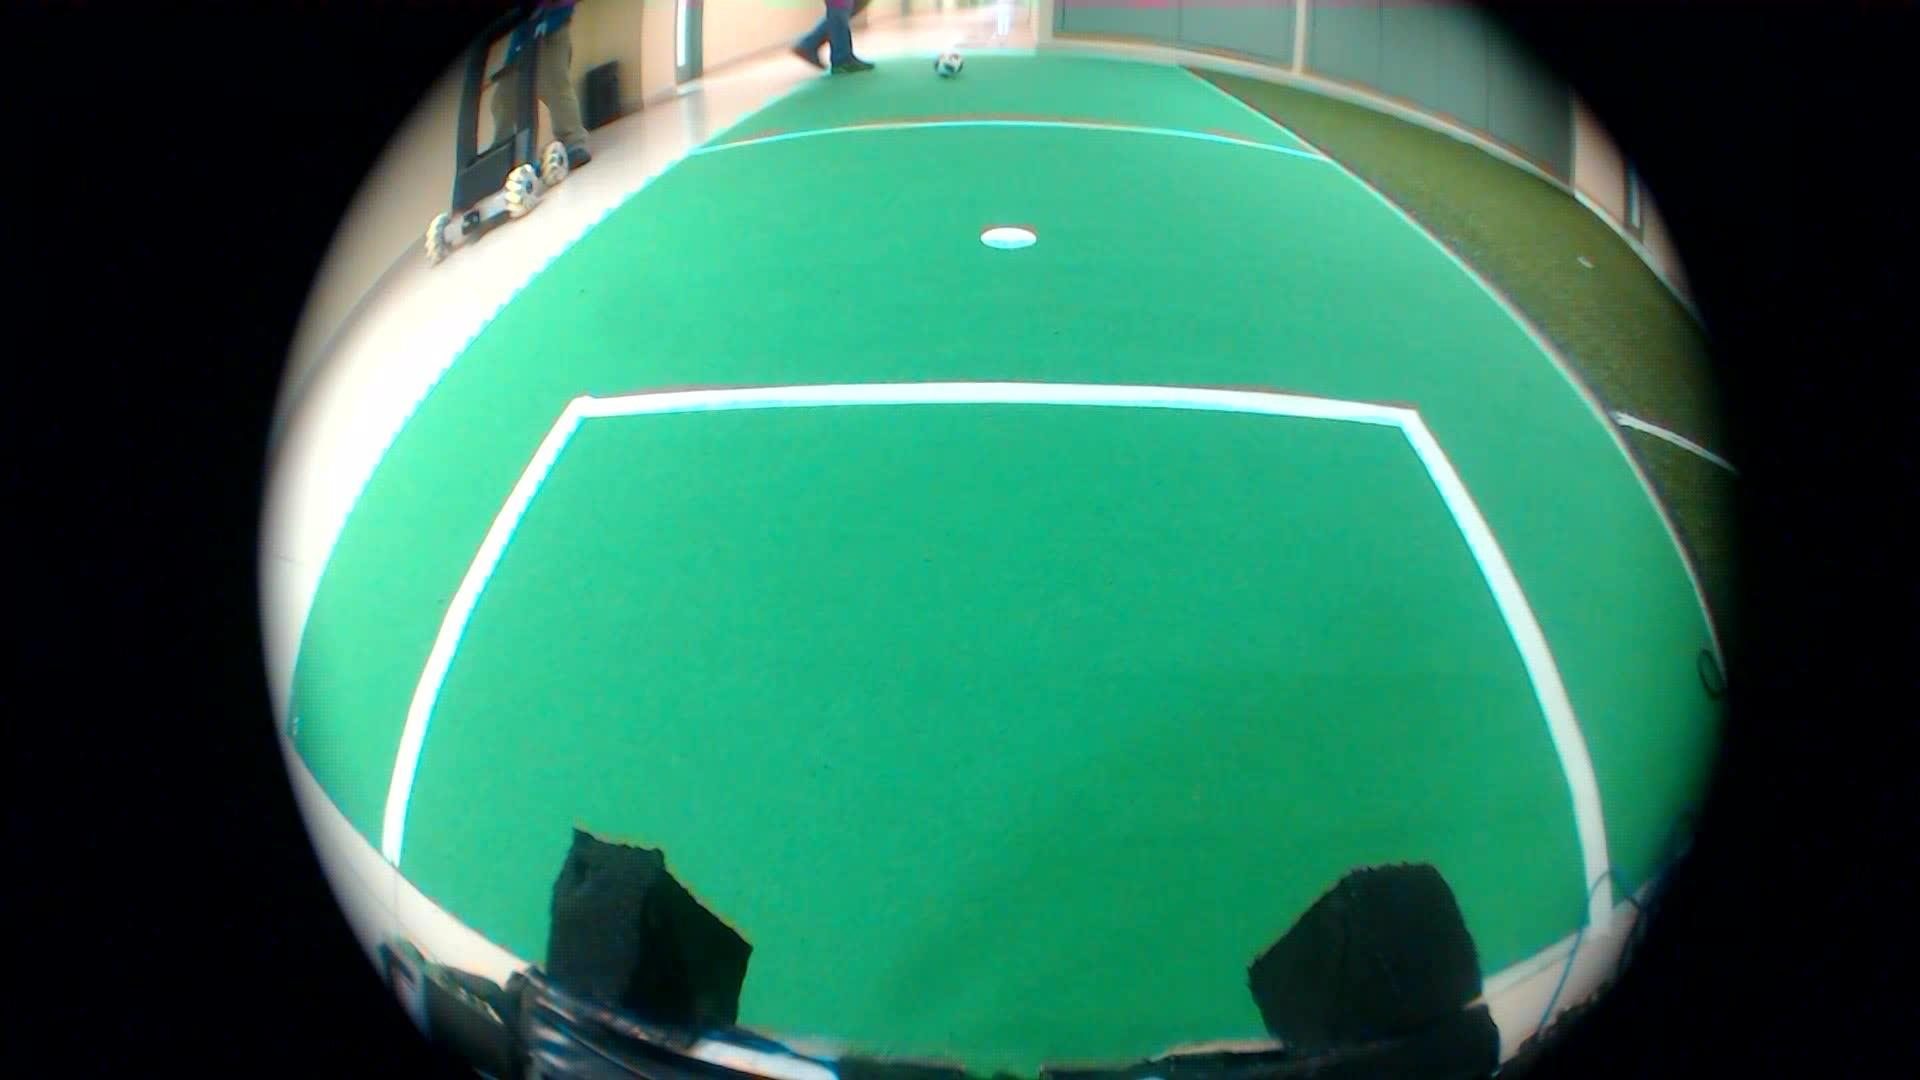ball: (928, 45, 961, 80)
